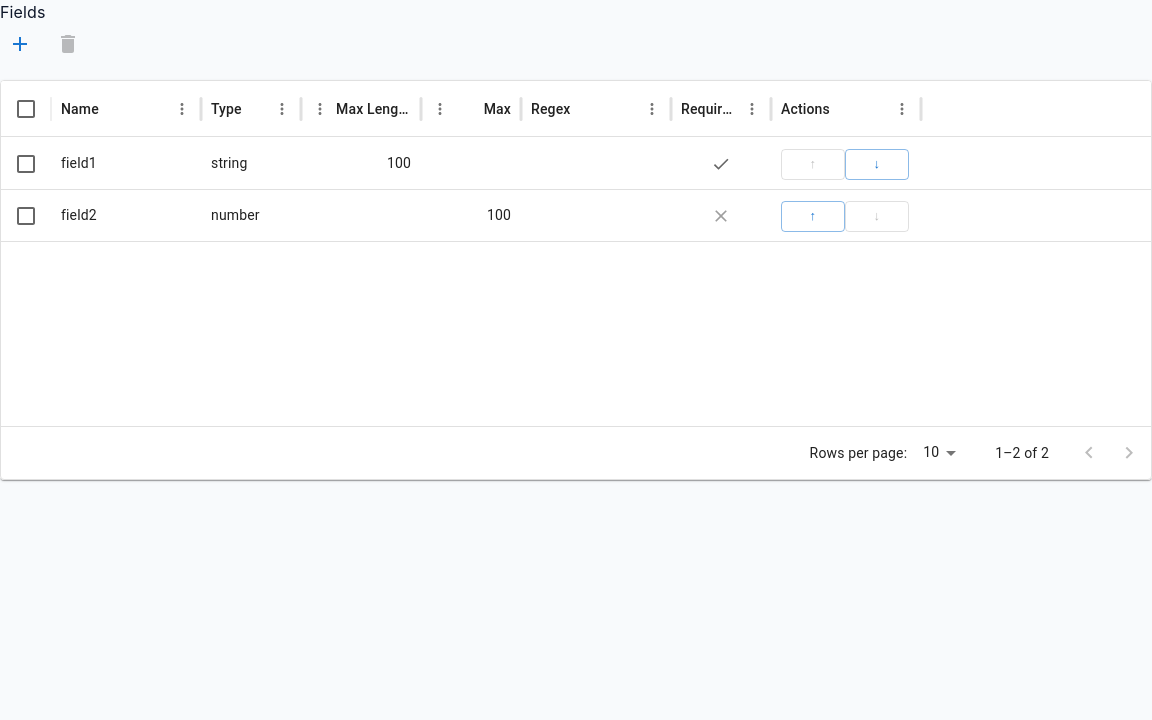
Test case: OrderedFieldsDataGrid › displays custom dialog title and message
Click the checkbox named "Select row": (26,164) [14,152,38,176]
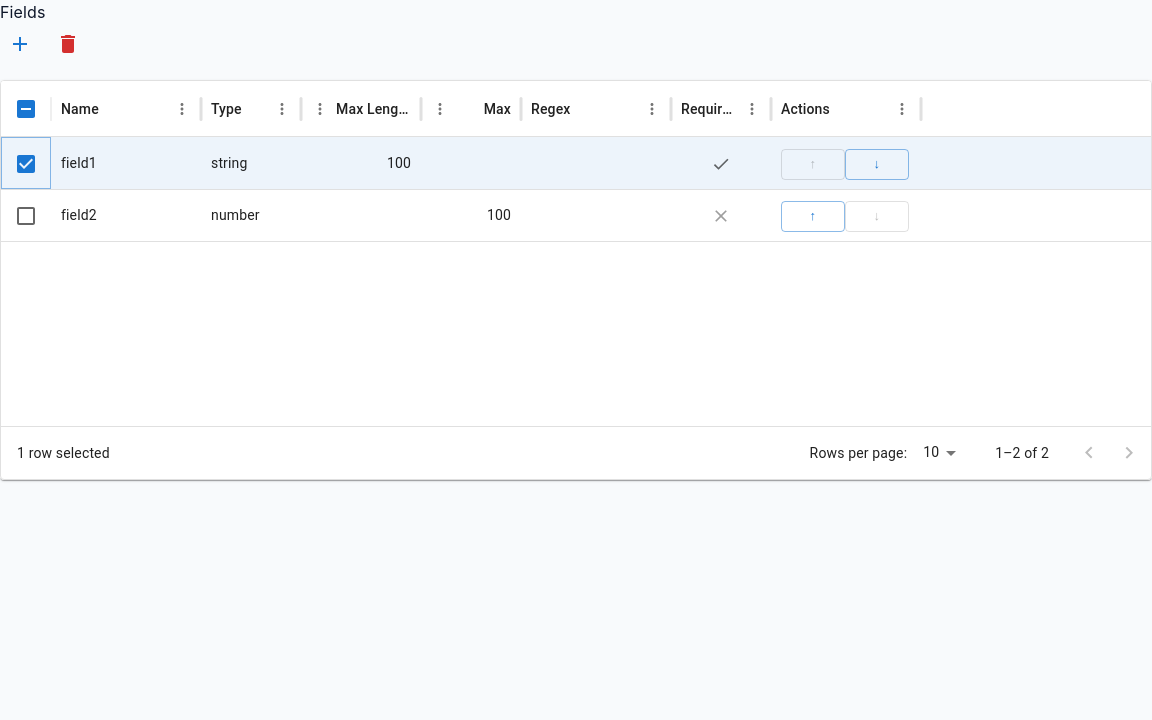
Click the button named "delete selected": (68,44) [48,24,88,64]
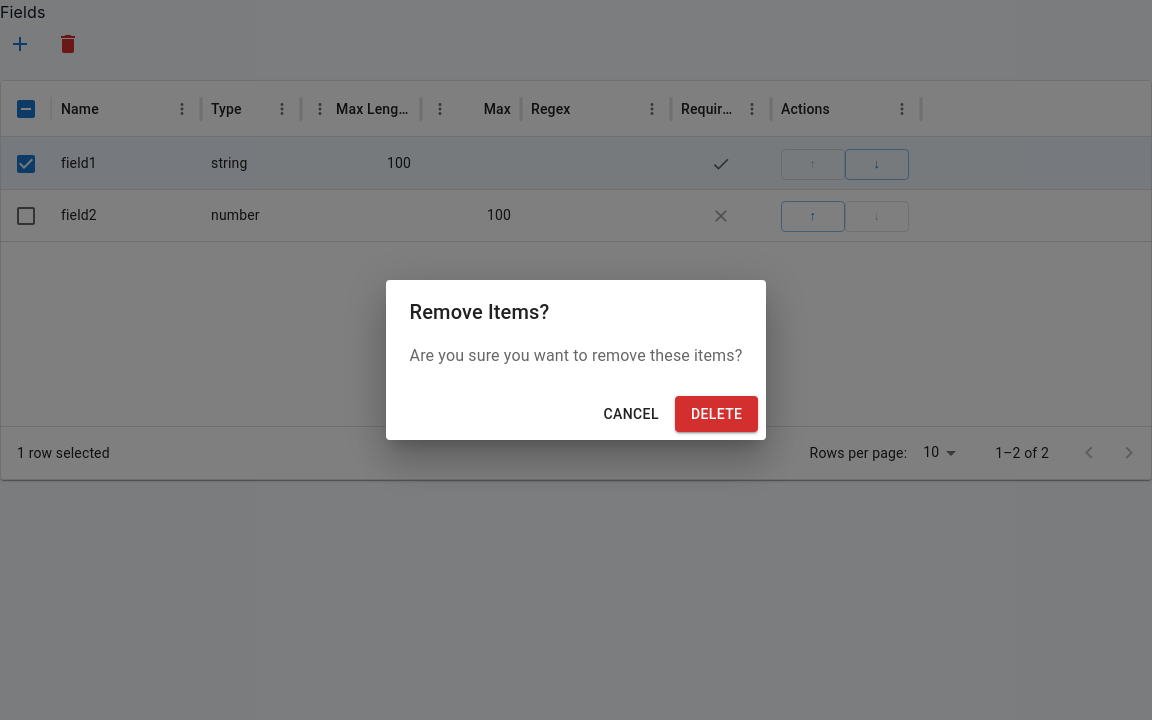
Expected: the heading "Remove Items?" is shown, [410,300,549,324]
Expected: the text "Are you sure you want to remove these items?" is shown, [410,344,742,368]
